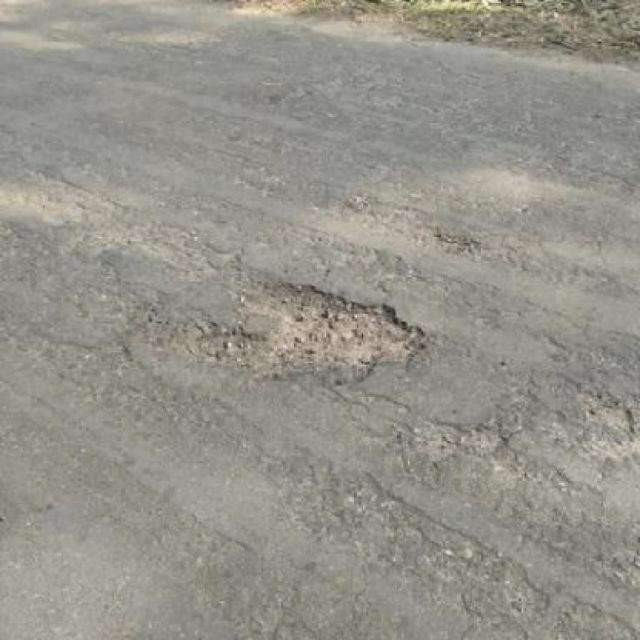Pothole: (181, 277, 427, 388)
